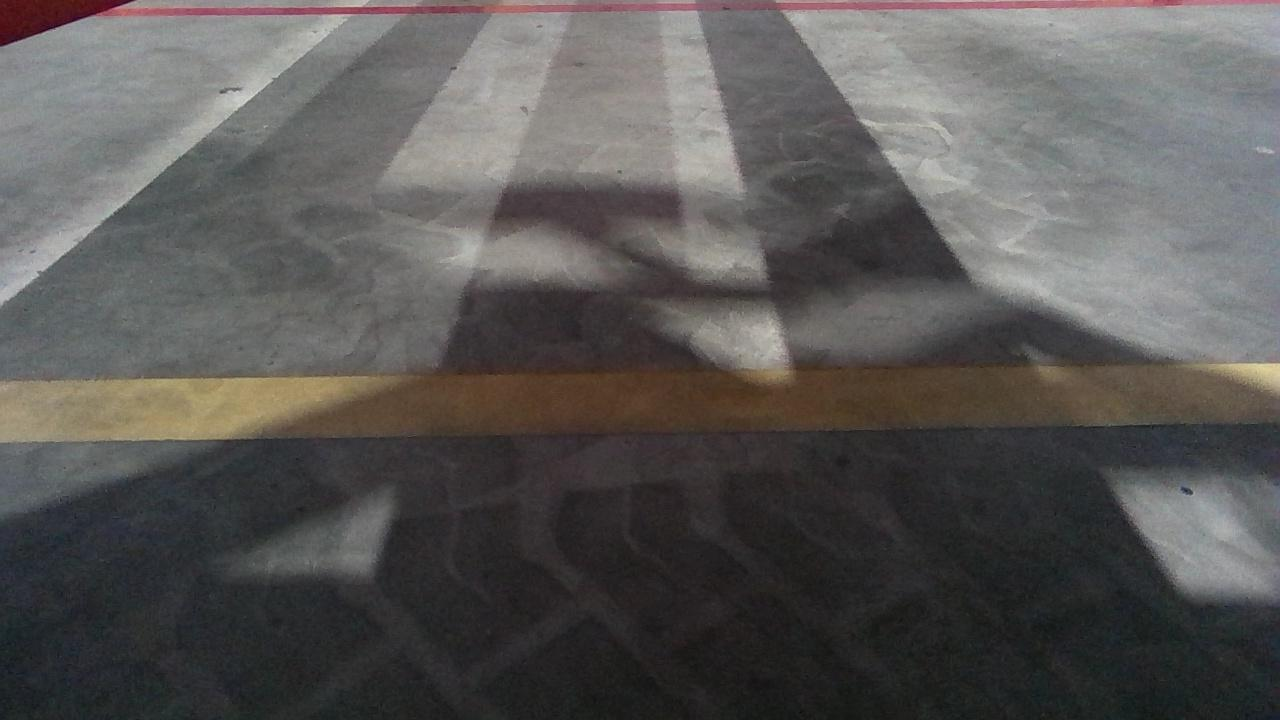red_line: (0, 0, 1136, 17)
yellow_line: (0, 357, 1280, 438)
